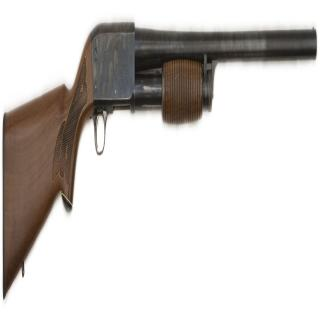gun: (3, 10, 316, 291)
